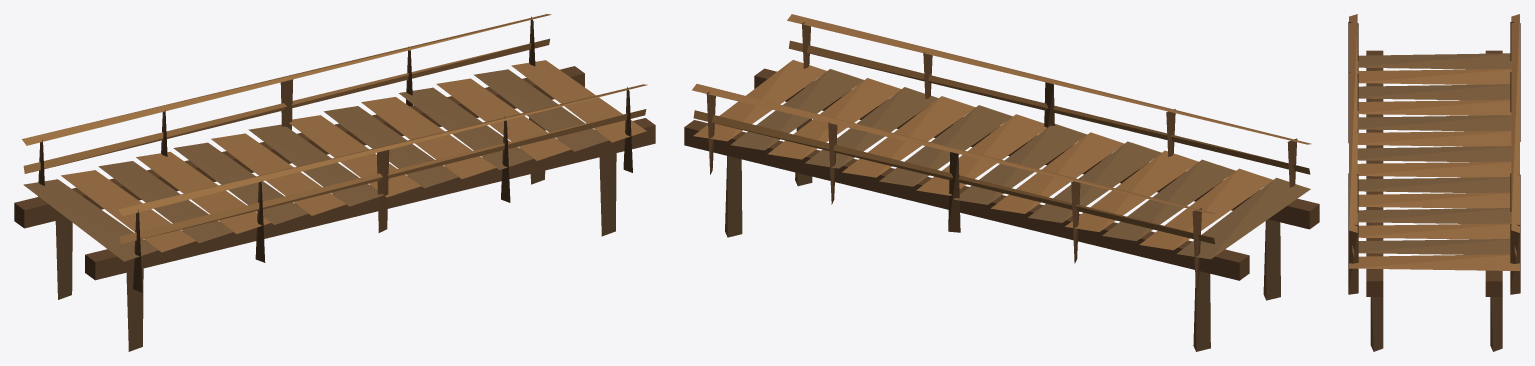
Rendered from bridge_small_wood_lod1.glb.
The picture shows the model from 3 angles, left to right: view 1: azimuth 30°, elevation 25°; view 2: azimuth 150°, elevation 25°; view 3: azimuth 270°, elevation 25°; orthographic projection. The views are drawn at different scales.
Visible parts, largest first — view 1: bridge_small_wood_lod1; view 2: bridge_small_wood_lod1; view 3: bridge_small_wood_lod1.
Boxes of the visible parts, x1,y1,x2,y2 form: bridge_small_wood_lod1: (14, 14, 655, 351); bridge_small_wood_lod1: (684, 14, 1319, 351); bridge_small_wood_lod1: (1348, 14, 1520, 351).
Size of the model in its own units: 6.4 by 1.67 by 2.02.
